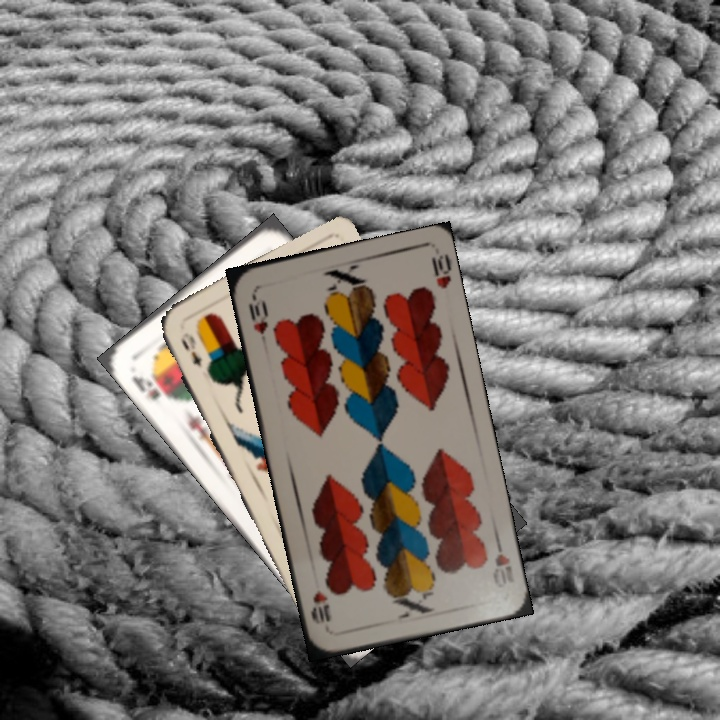EO: (176, 328, 205, 369)
H10: (488, 533, 517, 591), (244, 290, 271, 337)
SK: (128, 371, 163, 403)
